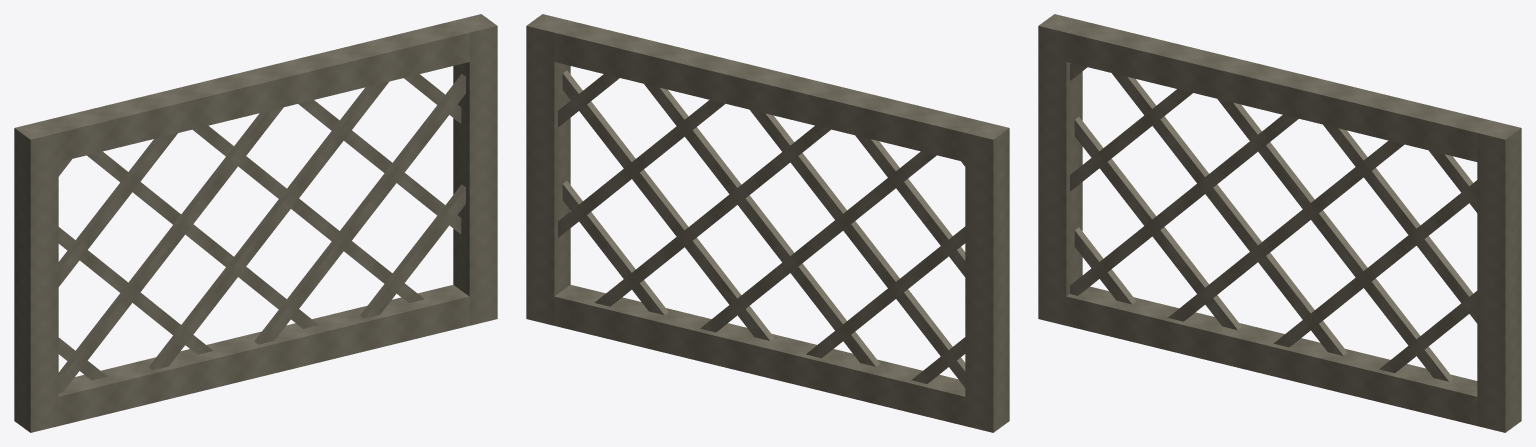
The model's file is MRP_Underfloor_Lattice_1x0p6m.fbx.
3 views of the same model, side by side, from view 1: azimuth 30°, elevation 25°; view 2: azimuth 150°, elevation 25°; view 3: azimuth 330°, elevation 25° (orthographic).
Parts seen in each view (by area): view 1: Body; view 2: Body; view 3: Body.
Part boxes in pixels (x1,y1,x2,y2): Body: (14,14,497,432); Body: (526,14,1009,432); Body: (1038,14,1521,432).
Size of the model in its own units: 1 by 0.6 by 0.06.
